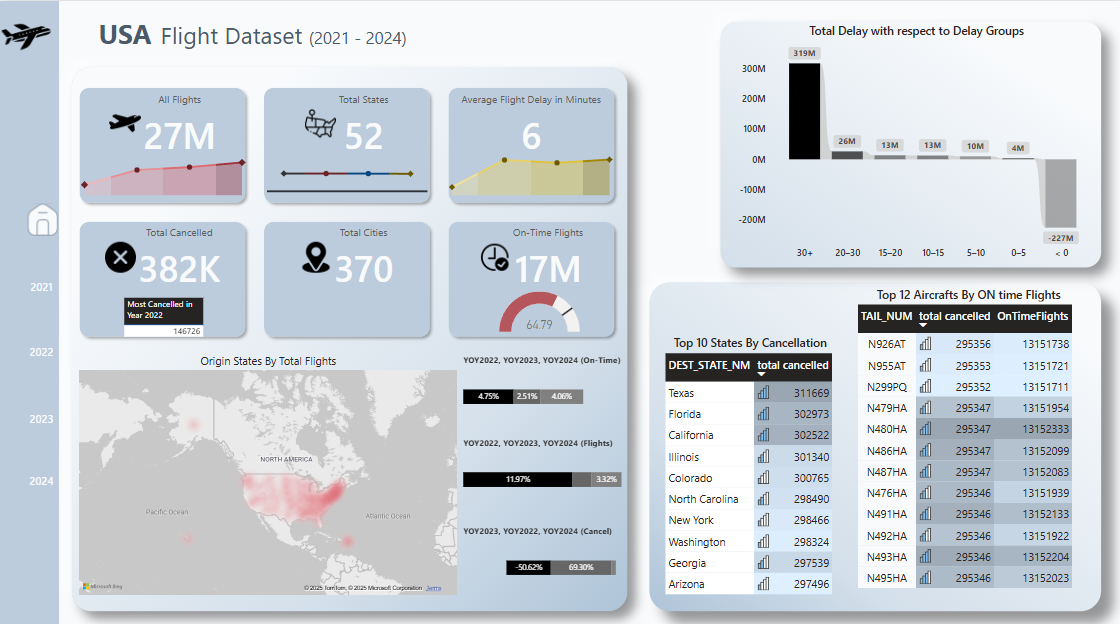

The dashboard page shown, as its layout file describes it:
{"tool":"powerbi","page":{"name":"home","canvas":[1800,1000],"ordinal":0},"visuals":[{"type":"textbox","title":"title","box":[154.9,0,554.9,84.3],"z":0},{"type":"group","id":"g1","title":"home icons","box":[0,0,96.1,1000],"z":1000},{"type":"cardVisual","fields":{"Data":["2021.All Flights","2021.total cancelled","2021.count states","2021.Total City's","2021.AverageFlightDelay","2021.OnTimeFlights"]},"box":[112,122,890,432],"z":2000},{"type":"actionButton","box":[0,0,96.1,1000],"z":2250,"group":"g1"},{"type":"actionButton","box":[43.3,319.9,52.2,60.7],"z":2500,"group":"g1"},{"type":"tableEx","title":"Top 12 Aircrafts By ON time Flights ","fields":{"Values":["2021.TAIL_NUM","2021.total cancelled","2021.OnTimeFlights"]},"box":[1368.9,455.6,366.7,500],"z":3000},{"type":"actionButton","box":[0,14.2,95.4,87],"z":3500,"group":"g1"},{"type":"columnChart","title":"Total Delay with respect to Delay Groups","fields":{"Category":["AllDelays.DelayGroup"],"Y":["Sum(AllDelays.Delay)"]},"box":[1178,34,580,390],"z":4000},{"type":"actionButton","box":[39.4,741.7,55.8,50.8],"z":4000,"group":"g1"},{"type":"actionButton","box":[39.4,637.5,56.1,58.6],"z":4500,"group":"g1"},{"type":"actionButton","box":[39.4,533.1,56.1,55.1],"z":5000,"group":"g1"},{"type":"map","title":"Origin States By Total Flights","fields":{"Size":["2021.All Flights"],"Category":["depdelay.Delay2"]},"box":[124,564,614,392],"z":5000},{"type":"actionButton","box":[39.4,429,56.1,55.1],"z":5500,"group":"g1"},{"type":"tableEx","title":"Top 10 States By Cancellation","fields":{"Values":["2021.DEST_STATE_NM","2021.total cancelled"]},"box":[1060,534,284,438],"z":6000},{"type":"lineChart","fields":{"Y":["2021.All Flights"],"Category":["2021.ORIGIN_STATE_NM"]},"box":[423.3,250,266.7,65.6],"z":7000},{"type":"gauge","fields":{"Y":["2021.ontime percent"]},"box":[790,460,150,74.4],"z":8000},{"type":"tableEx","fields":{"Values":["Sum(2022.CANCELLED)"]},"box":[194.4,470,140,84.4],"z":9000},{"type":"lineChart","fields":{"Category":["flights.Year"],"Y":["CountNonNull(flights.Flights)"]},"box":[122,230,282,86],"z":10000},{"type":"lineChart","fields":{"Y":["Avg(AllDelays.Delay)"],"Category":["AllDelays.Year"]},"box":[710,229,282,86],"z":11000},{"type":"barChart","fields":{"Y":["2022.YOYontime","2023.YOY2023ontime","2024.YOY2024ontime"]},"box":[737.3,560.9,264.5,122.7],"z":12000},{"type":"barChart","fields":{"Y":["2022.YOY flights","2023.YOY2023 flights","2024.YOY2024 flights"]},"box":[738,692,302,124],"z":13000},{"type":"barChart","fields":{"Y":["2023.YOY2023 cancel","2022.YOY cancel","2024.YOY2024 cancel"]},"box":[738,834,290,122],"z":14000}]}

Visuals, with their boxes on the page's 1800x1000 design canvas (x1, y1, x2, y2). These are canvas units, not pixel positions in the 1120x624 screenshot, which may show the page scaled, cropped or inside an application window:
"title" textbox: (left=155, top=0, right=710, bottom=84)
"home icons" group: (left=0, top=0, right=96, bottom=1000)
cardVisual - 2021.All Flights x 2021.total cancelled: (left=112, top=122, right=1002, bottom=554)
actionButton: (left=0, top=0, right=96, bottom=1000)
actionButton: (left=43, top=320, right=96, bottom=381)
"Top 12 Aircrafts By ON time Flights " tableEx: (left=1369, top=456, right=1736, bottom=956)
actionButton: (left=0, top=14, right=95, bottom=101)
"Total Delay with respect to Delay Groups" columnChart: (left=1178, top=34, right=1758, bottom=424)
actionButton: (left=39, top=742, right=95, bottom=792)
actionButton: (left=39, top=638, right=96, bottom=696)
actionButton: (left=39, top=533, right=96, bottom=588)
"Origin States By Total Flights" map: (left=124, top=564, right=738, bottom=956)
actionButton: (left=39, top=429, right=96, bottom=484)
"Top 10 States By Cancellation" tableEx: (left=1060, top=534, right=1344, bottom=972)
lineChart - 2021.All Flights x 2021.ORIGIN_STATE_NM: (left=423, top=250, right=690, bottom=316)
gauge - 2021.ontime percent: (left=790, top=460, right=940, bottom=534)
tableEx - Sum(2022.CANCELLED): (left=194, top=470, right=334, bottom=554)
lineChart - flights.Year x CountNonNull(flights.Flights): (left=122, top=230, right=404, bottom=316)
lineChart - Avg(AllDelays.Delay) x AllDelays.Year: (left=710, top=229, right=992, bottom=315)
barChart - 2022.YOYontime x 2023.YOY2023ontime: (left=737, top=561, right=1002, bottom=684)
barChart - 2022.YOY flights x 2023.YOY2023 flights: (left=738, top=692, right=1040, bottom=816)
barChart - 2023.YOY2023 cancel x 2022.YOY cancel: (left=738, top=834, right=1028, bottom=956)
